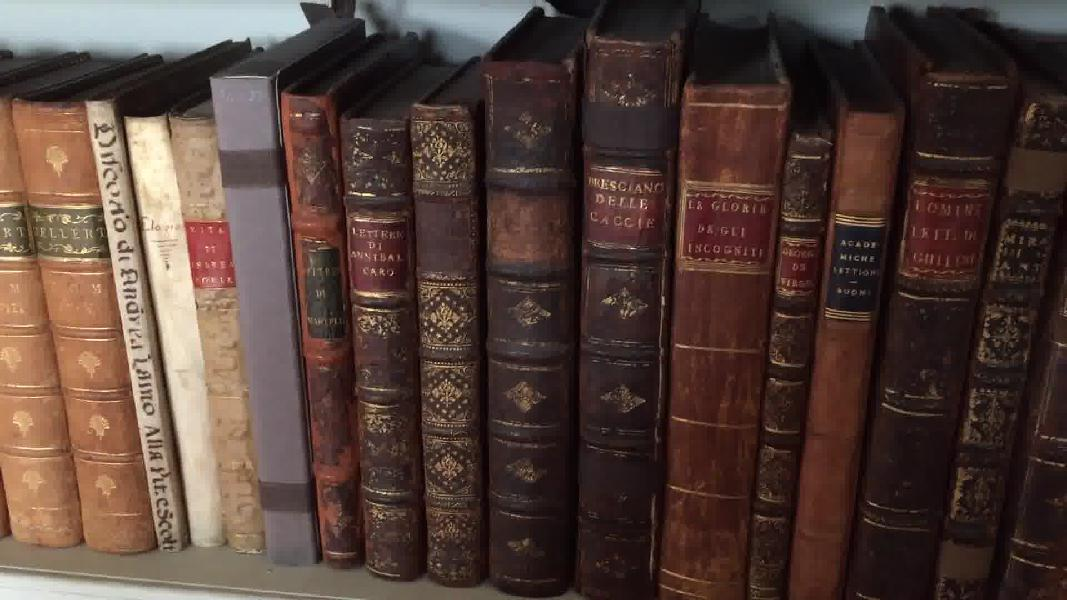Aa6-24: (82, 90, 197, 555)
Aa6-25: (117, 94, 238, 551)
Aa6-26: (165, 96, 269, 579)
Aa6-27: (205, 54, 325, 570)
Aa6-28: (267, 63, 373, 589)
Aa6-29: (329, 90, 440, 588)
Aa6-30: (406, 86, 481, 593)
Aa6-31: (471, 48, 588, 598)
Aa6-32: (577, 19, 677, 600)
Aa6-33: (667, 54, 787, 600)
Aa6-34: (742, 88, 830, 600)
Aa6-35: (782, 66, 900, 600)
Aa6-36: (847, 48, 993, 600)
Aa6-37: (932, 82, 1063, 600)
